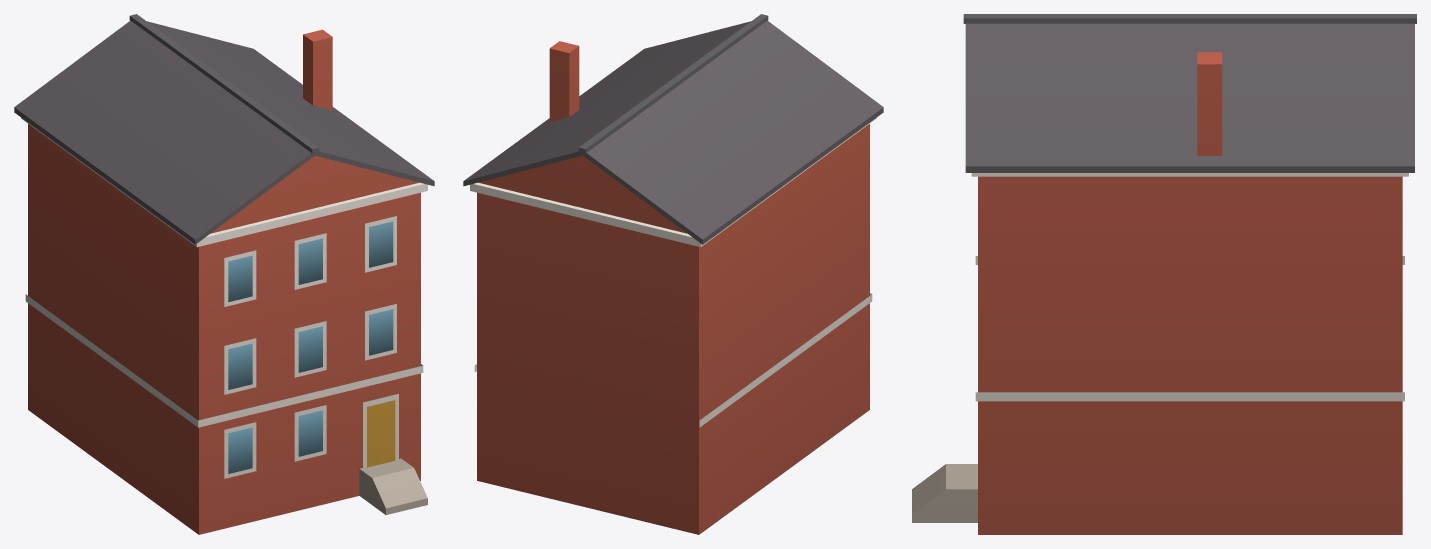
The model's file is lane_w0_far.glb.
The picture shows the model from 3 angles, left to right: view 1: azimuth 30°, elevation 25°; view 2: azimuth 150°, elevation 25°; view 3: azimuth 270°, elevation 25°; orthographic projection. The views are drawn at different scales.
Visible parts, largest first — view 1: lane_w0_far; view 2: lane_w0_far; view 3: lane_w0_far.
Part boxes in pixels (left/top/right/bottom): lane_w0_far: left=14, top=14, right=434, bottom=534; lane_w0_far: left=463, top=14, right=883, bottom=534; lane_w0_far: left=912, top=14, right=1416, bottom=534.
Bounding box in the file's own units: 9.7 × 14.68 × 14.26.
Materials: 1 (1 with a texture image).
